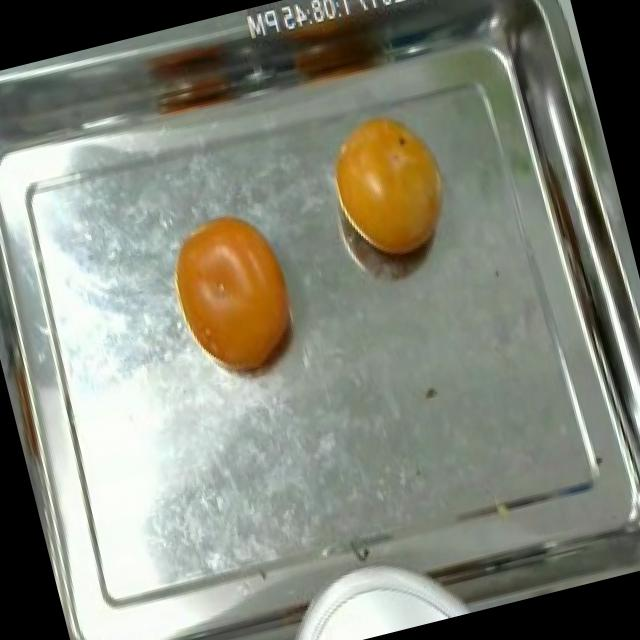Fruit: (146, 188, 318, 398), (314, 96, 468, 276)
